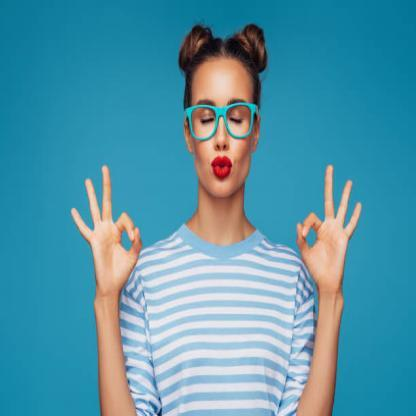ok: (67, 162, 144, 301), (292, 160, 364, 301)
